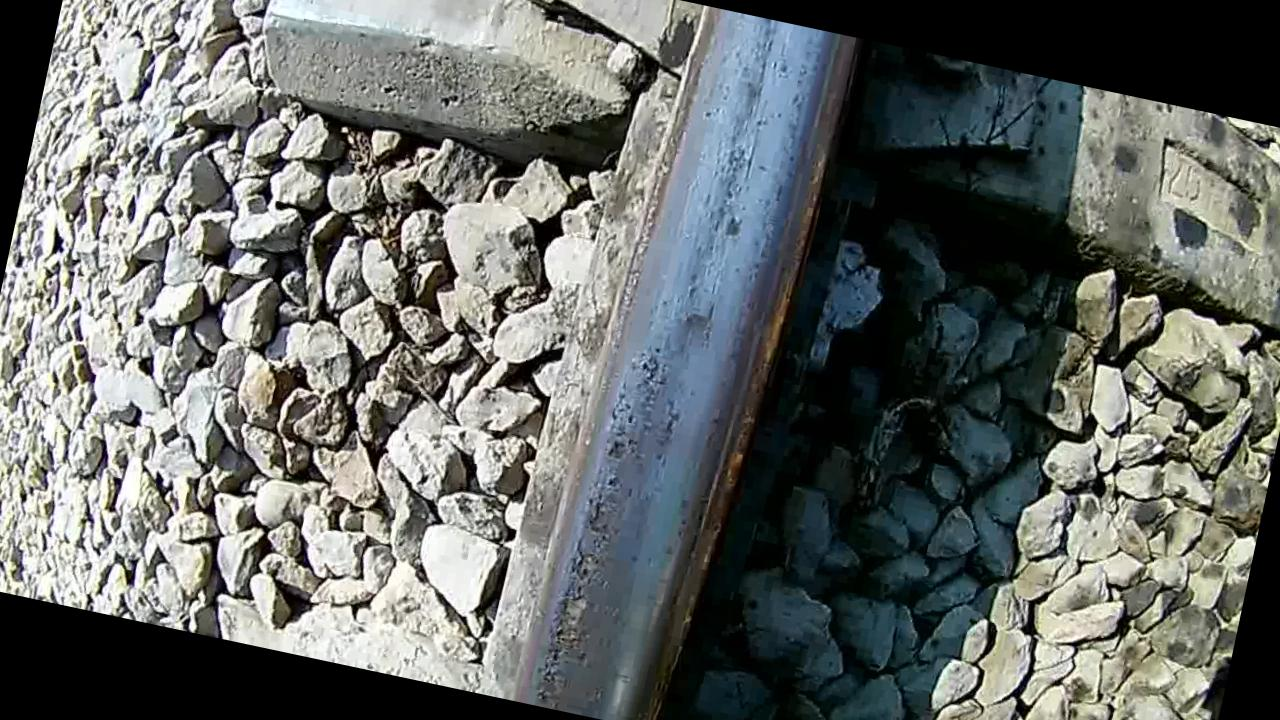crack: (511, 0, 858, 720)
